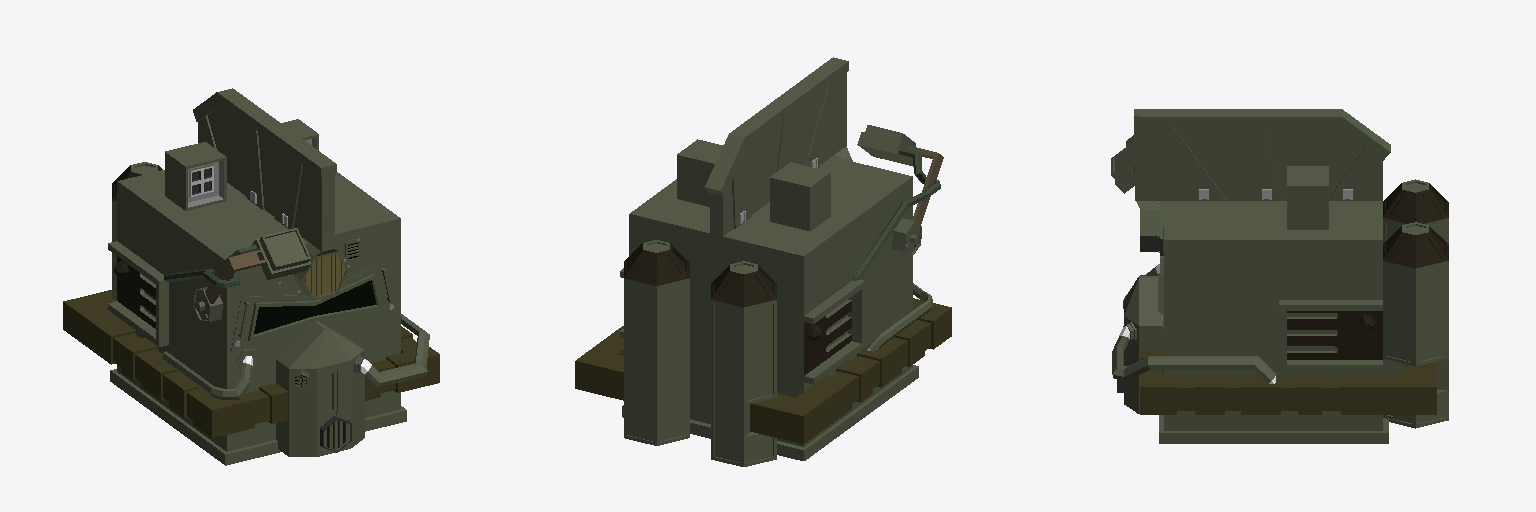
The model's file is t50head.obj.
3 renders of one model, left to right at view 1: azimuth 30°, elevation 25°; view 2: azimuth 150°, elevation 25°; view 3: azimuth 270°, elevation 25°, orthographic.
Parts seen in each view (by area): view 1: Mesh94 Model, Mesh91 TubeR2 Model, Mesh1 Group1 Model, Mesh95 Model, Mesh88 TubeR1 Model, Mesh11 Group2 Model; view 2: Mesh94 Model, Mesh91 TubeR2 Model, Mesh95 Model, Mesh1 Group1 Model, Mesh88 TubeR1 Model, Mesh96 Model; view 3: Mesh94 Model, Mesh88 TubeR1 Model, Mesh96 Model, Mesh1 Group1 Model.
Boxes of the visible parts, box(x1,y1,x2,y2) form: Mesh94 Model: box(108, 88, 429, 465); Mesh91 TubeR2 Model: box(63, 290, 287, 437); Mesh1 Group1 Model: box(193, 228, 310, 321); Mesh95 Model: box(165, 142, 226, 210); Mesh88 TubeR1 Model: box(365, 326, 439, 400); Mesh11 Group2 Model: box(320, 416, 351, 452); Mesh94 Model: box(620, 57, 940, 466); Mesh91 TubeR2 Model: box(750, 298, 951, 444); Mesh95 Model: box(770, 162, 830, 231); Mesh1 Group1 Model: box(857, 125, 943, 256); Mesh88 TubeR1 Model: box(575, 326, 623, 400); Mesh96 Model: box(677, 139, 722, 206); Mesh94 Model: box(1112, 109, 1448, 443); Mesh88 TubeR1 Model: box(1140, 350, 1436, 414); Mesh96 Model: box(1287, 166, 1328, 229); Mesh1 Group1 Model: box(1111, 135, 1134, 193).
Bounding box in the file's own units: 1246 × 1494 × 1591.